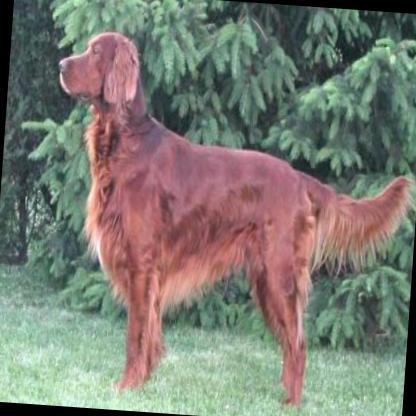Irish_setter: (34, 27, 416, 412)
